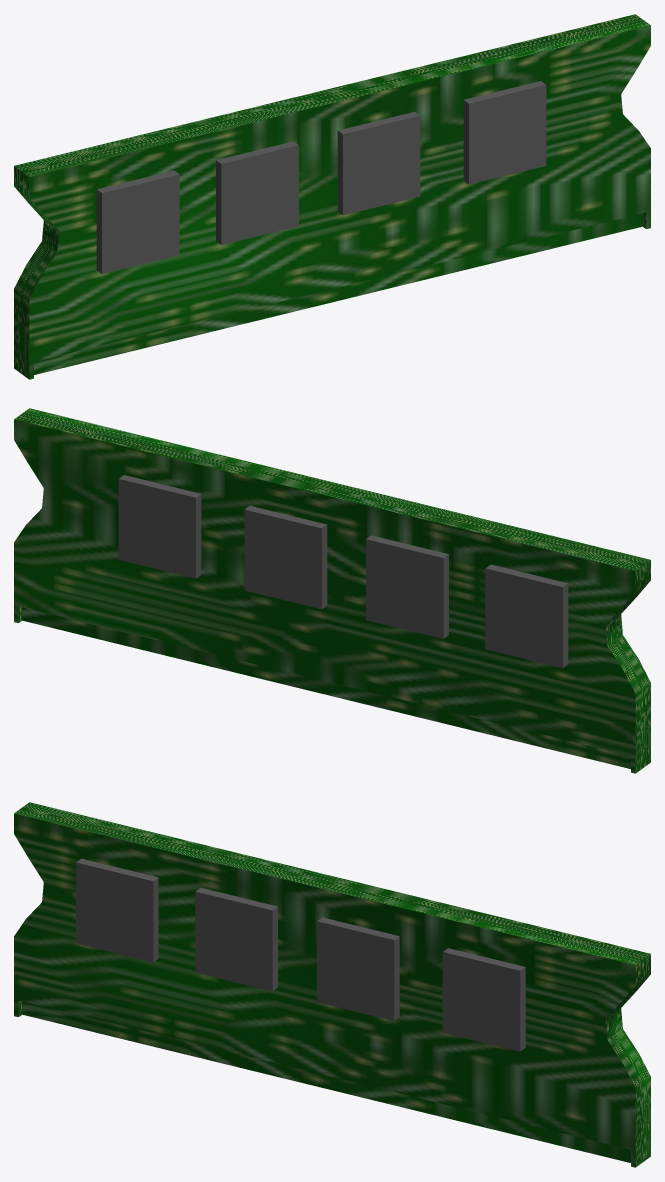
File: RamChip.fbx
The picture shows the model from 3 angles, top to bottom: view 1: azimuth 30°, elevation 25°; view 2: azimuth 150°, elevation 25°; view 3: azimuth 330°, elevation 25°; orthographic projection.
Parts seen in each view (by area): view 1: pCube6; view 2: pCube6; view 3: pCube6.
Boxes of the visible parts, x1=… form: pCube6: x1=14, y1=14, x2=650, y2=379; pCube6: x1=14, y1=408, x2=650, y2=773; pCube6: x1=14, y1=802, x2=650, y2=1167.
Size of the model in its own units: 6.4 by 1.99 by 0.4658.
Materials: 2 (1 with a texture image).
